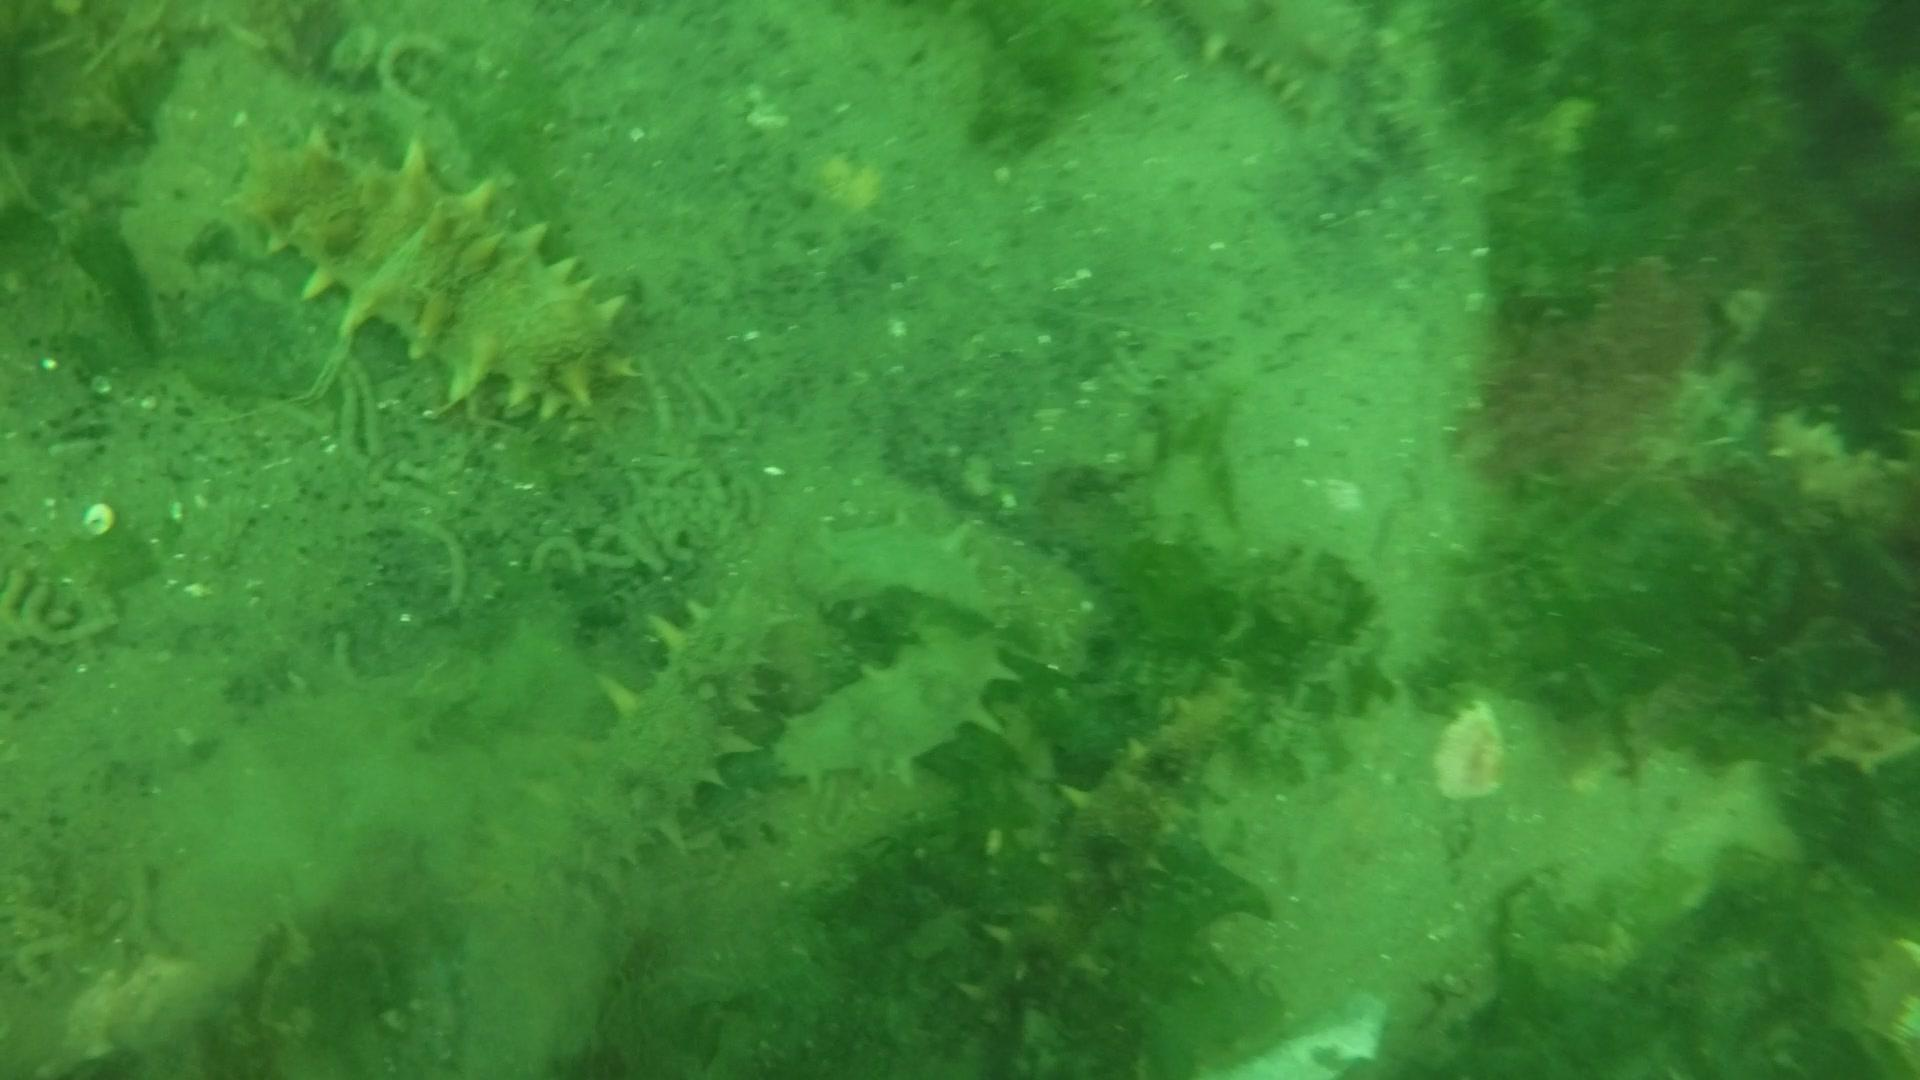holothurian: (233, 116, 651, 436), (465, 578, 795, 952), (957, 686, 1276, 1017), (773, 626, 1021, 800), (798, 506, 1050, 636), (1158, 1, 1335, 124)
